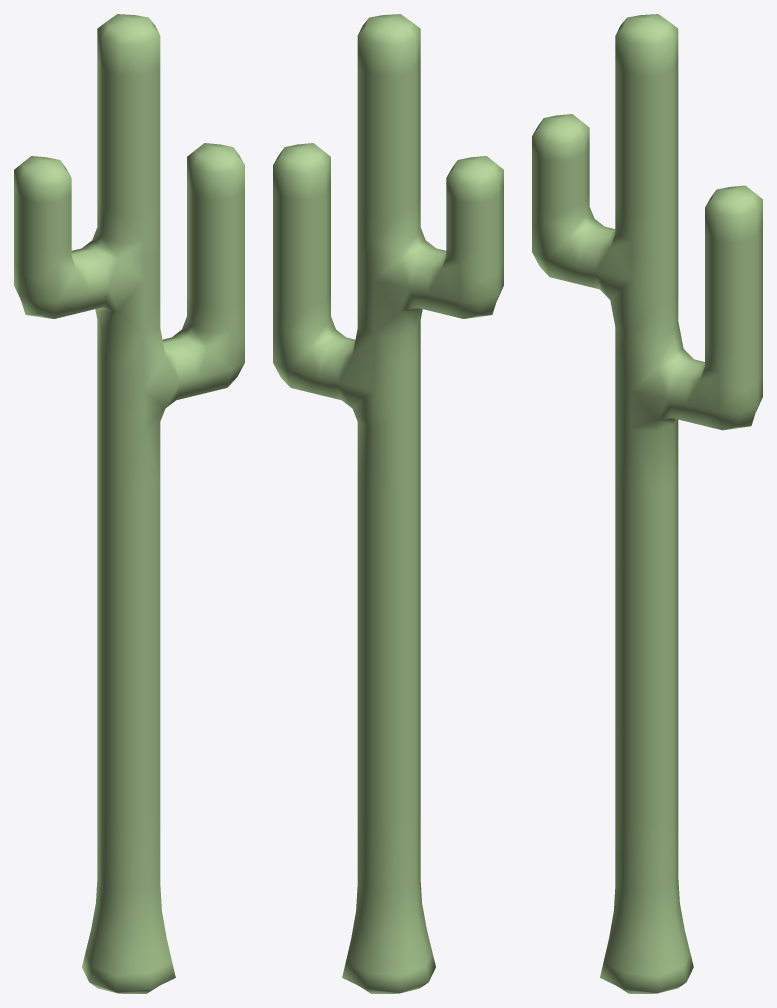
The model's file is Saguaro.glb.
3 renders of one model, left to right at view 1: azimuth 30°, elevation 25°; view 2: azimuth 150°, elevation 25°; view 3: azimuth 330°, elevation 25°, orthographic.
Parts seen in each view (by area): view 1: Cube1; view 2: Cube1; view 3: Cube1.
Boxes of the visible parts, x1,y1,x2,y2 form: Cube1: (14,14,244,993); Cube1: (273,14,503,993); Cube1: (532,14,762,993).
Size of the model in its own units: 3.3 by 13.86 by 1.19.
